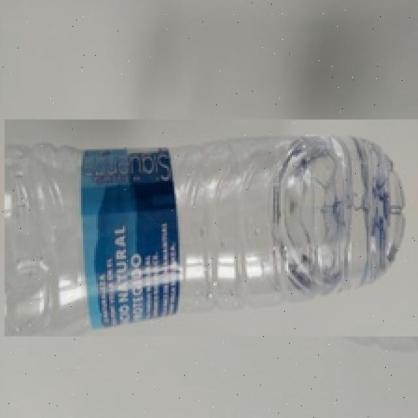bottle: (4, 119, 418, 336)
label: (76, 130, 193, 330)
